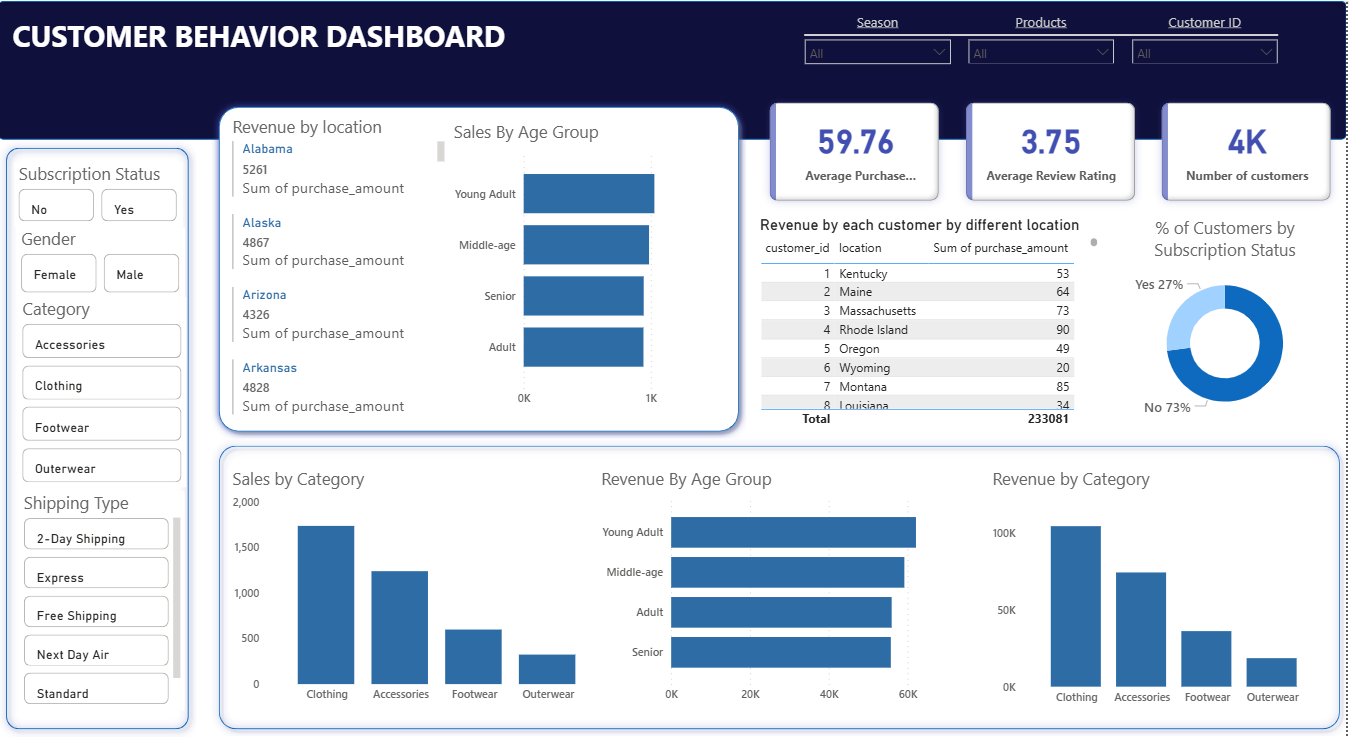

Layout of this report page (visuals, bound fields, positions):
{"tool":"powerbi","page":{"name":"Page 1","canvas":[1500,819],"ordinal":0},"visuals":[{"type":"shape","box":[0,0,1500.3,154.3],"z":0},{"type":"cardVisual","fields":{"Data":["customer_purchase.Average Purchase Amount","customer_purchase.Average Review Rating","customer_purchase.Number of customers"]},"box":[842.9,97.1,657.1,141.4],"z":1000},{"type":"shape","box":[237.1,487.1,1262.9,331.4],"z":2000},{"type":"textbox","box":[11,12.3,787.7,83.7],"z":3000},{"type":"textbox","box":[28.6,435.7,112.9,131.4],"z":4000},{"type":"shape","box":[237.1,110,594.3,377.1],"z":5000},{"type":"donutChart","title":"% of Customers by Subscription Status","fields":{"Category":["customer_purchase.subscription_status"],"Y":["CountNonNull(customer_purchase.customer_id)"]},"box":[1228.6,238.6,271.4,234.3],"z":6000},{"type":"clusteredColumnChart","title":"Revenue by Category","fields":{"Category":["customer_purchase.category"],"Y":["Sum(customer_purchase.purchase_amount)"]},"box":[1101.4,518.6,380,274.3],"z":7000},{"type":"clusteredColumnChart","title":"Sales by Category","fields":{"Category":["customer_purchase.category"],"Y":["CountNonNull(customer_purchase.customer_id)"]},"box":[255.7,518.6,427.1,271.4],"z":8000},{"type":"shape","box":[0,154.3,221.1,664.7],"z":9000},{"type":"advancedSlicerVisual","title":"Subscription Status ","fields":{"Values":["customer_purchase.subscription_status"]},"box":[18.6,180,187.1,71.4],"z":10000},{"type":"advancedSlicerVisual","title":"Gender","fields":{"Values":["customer_purchase.gender"]},"box":[21.4,251.4,187.1,78.6],"z":11000},{"type":"advancedSlicerVisual","title":"Category","fields":{"Values":["customer_purchase.category"]},"box":[22.9,330,187.1,211.4],"z":12000},{"type":"actionButton","box":[0,0,100,40],"z":13000},{"type":"advancedSlicerVisual","title":"Shipping Type","fields":{"Values":["customer_purchase.shipping_type"]},"box":[24.3,545.7,184.3,244.3],"z":14000},{"type":"clusteredBarChart","title":"Revenue By Age Group","fields":{"Category":["customer_purchase.age_group"],"Y":["Sum(customer_purchase.purchase_amount)"]},"box":[665.7,518.6,405.7,271.4],"z":15000},{"type":"clusteredBarChart","title":"Sales By Age Group","fields":{"Category":["customer_purchase.age_group"],"Y":["CountNonNull(customer_purchase.customer_id)"]},"box":[501.4,131.4,307.1,328.6],"z":16000},{"type":"multiRowCard","title":"Revenue by location","fields":{"Values":["customer_purchase.location","Sum(customer_purchase.purchase_amount)"]},"box":[255.7,127.1,245.7,338.6],"z":17000},{"type":"slicer","title":"Customer ID","fields":{"Values":["customer_purchase.customer_id"]},"box":[1251.4,12.5,182.2,57],"z":18000},{"type":"slicer","title":"Products","fields":{"Values":["customer_purchase.item_purchased"]},"box":[1069.3,12.5,182.2,57],"z":19000},{"type":"tableEx","title":"Revenue by each customer by different location","fields":{"Values":["customer_purchase.customer_id","customer_purchase.location","Sum(customer_purchase.purchase_amount)"]},"box":[842.9,238.6,385.7,240],"z":20000},{"type":"slicer","title":"Season","fields":{"Values":["customer_purchase.season"]},"box":[887.3,12.7,182.7,57.3],"z":21000},{"type":"shape","box":[896.4,5.5,527.3,64.5],"z":22000}]}

Visuals, with their boxes in screenshot pixels (x1, y1, x2, y2), scaled from the page's 1500x819 canvas onto the 1349x737 screenshot:
shape: x1=0, y1=0, x2=1348, y2=139
cardVisual - customer_purchase.Average Purchase Amount x customer_purchase.Average Review Rating: x1=758, y1=87, x2=1348, y2=215
shape: x1=213, y1=438, x2=1348, y2=736
textbox: x1=10, y1=11, x2=718, y2=86
textbox: x1=26, y1=392, x2=127, y2=510
shape: x1=213, y1=99, x2=748, y2=438
"% of Customers by Subscription Status" donutChart: x1=1105, y1=215, x2=1348, y2=426
"Revenue by Category" clusteredColumnChart: x1=991, y1=467, x2=1332, y2=714
"Sales by Category" clusteredColumnChart: x1=230, y1=467, x2=614, y2=711
shape: x1=0, y1=139, x2=199, y2=736
"Subscription Status " advancedSlicerVisual: x1=17, y1=162, x2=185, y2=226
"Gender" advancedSlicerVisual: x1=19, y1=226, x2=188, y2=297
"Category" advancedSlicerVisual: x1=21, y1=297, x2=189, y2=487
actionButton: x1=0, y1=0, x2=90, y2=36
"Shipping Type" advancedSlicerVisual: x1=22, y1=491, x2=188, y2=711
"Revenue By Age Group" clusteredBarChart: x1=599, y1=467, x2=964, y2=711
"Sales By Age Group" clusteredBarChart: x1=451, y1=118, x2=727, y2=414
"Revenue by location" multiRowCard: x1=230, y1=114, x2=451, y2=419
"Customer ID" slicer: x1=1125, y1=11, x2=1289, y2=63
"Products" slicer: x1=962, y1=11, x2=1126, y2=63
"Revenue by each customer by different location" tableEx: x1=758, y1=215, x2=1105, y2=431
"Season" slicer: x1=798, y1=11, x2=962, y2=63
shape: x1=806, y1=5, x2=1280, y2=63
